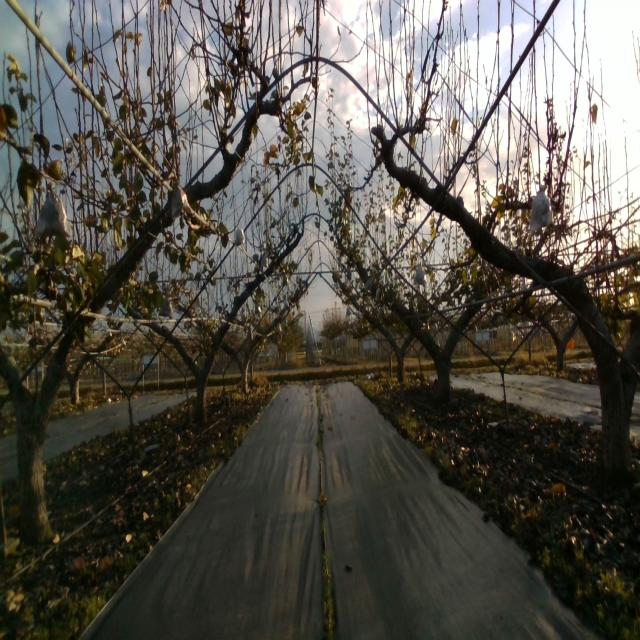pearbags: (35, 182, 71, 239), (529, 185, 554, 232), (170, 181, 192, 221), (413, 264, 424, 286)
